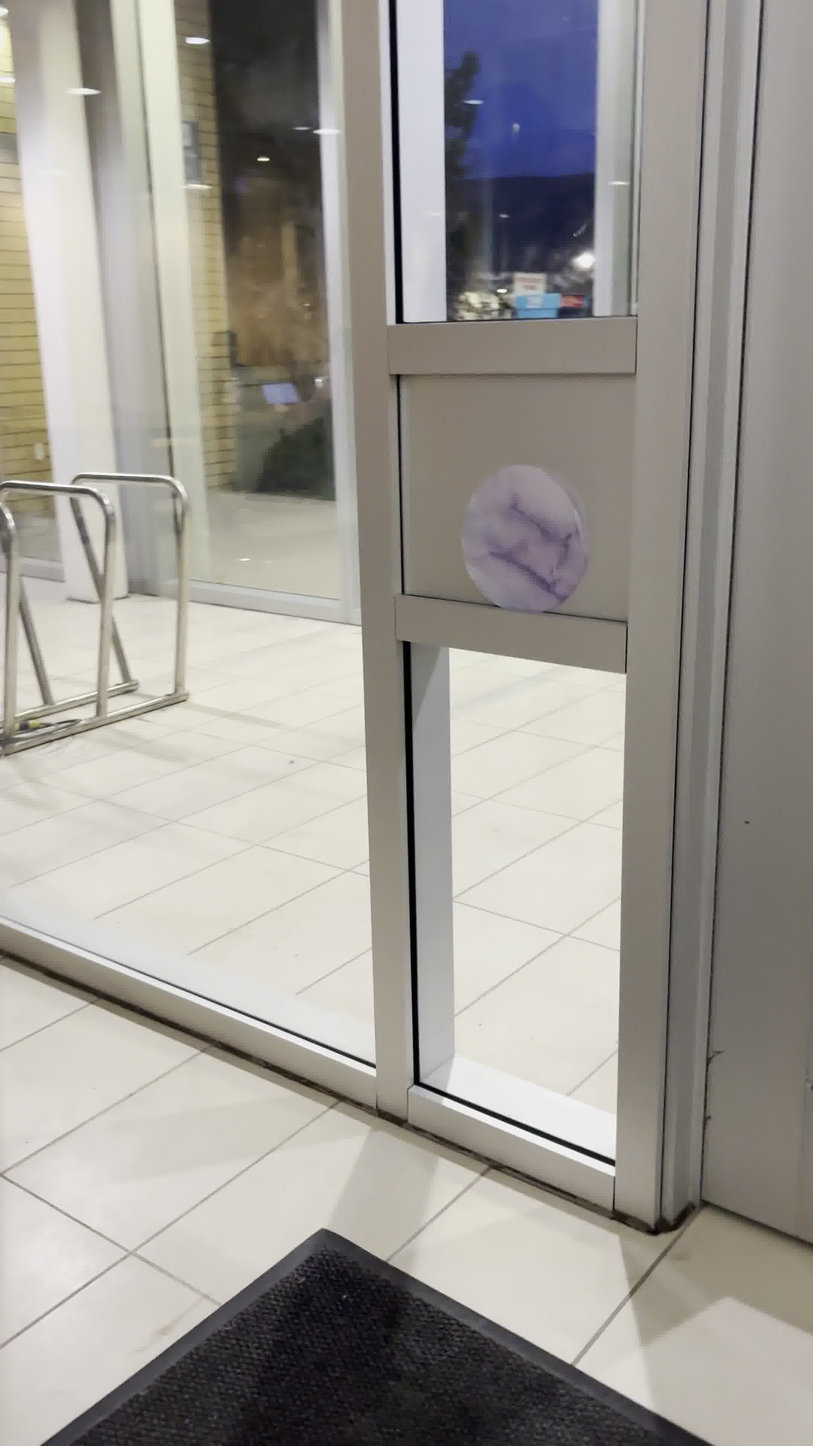Target: (459, 462, 591, 617)
